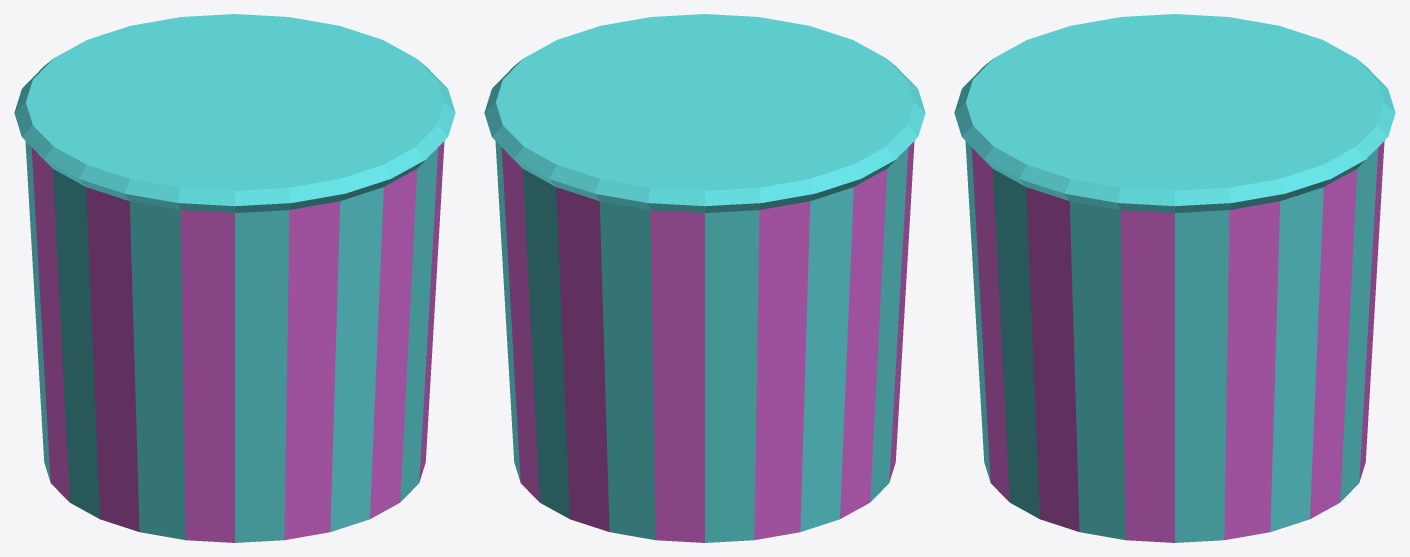
Rendered from yoghurt.glb.
3 views of the same model, side by side, from view 1: azimuth 30°, elevation 25°; view 2: azimuth 150°, elevation 25°; view 3: azimuth 270°, elevation 25° (orthographic).
Parts seen in each view (by area): view 1: BlueStrips; view 2: BlueStrips; view 3: BlueStrips.
Part boxes in pixels (left/top/right/bottom): BlueStrips: left=14, top=14, right=455, bottom=542; BlueStrips: left=484, top=14, right=925, bottom=542; BlueStrips: left=954, top=14, right=1395, bottom=542.
Bounding box in the file's own units: 0.2 × 0.18 × 0.2.
